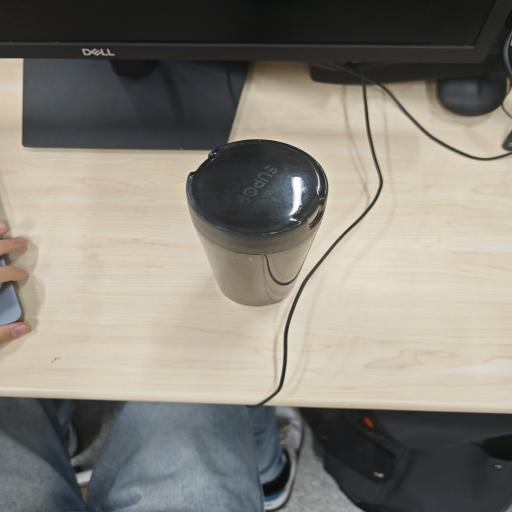mouse: (437, 73, 507, 116)
